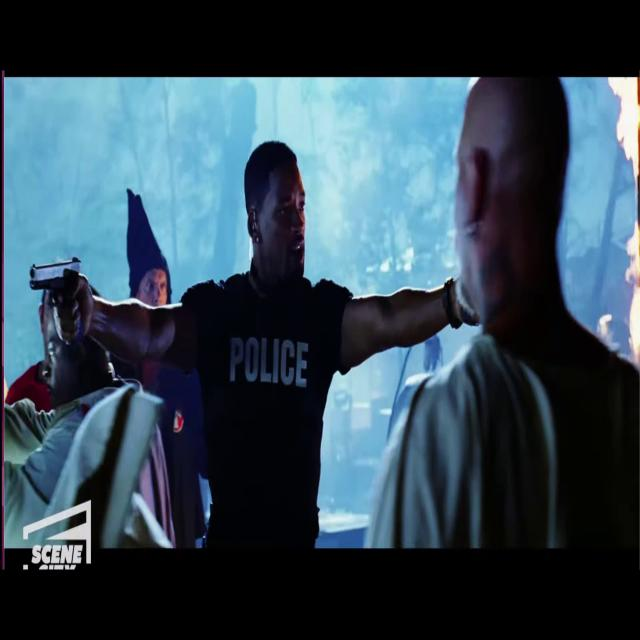weapons: (21, 242, 89, 344)
